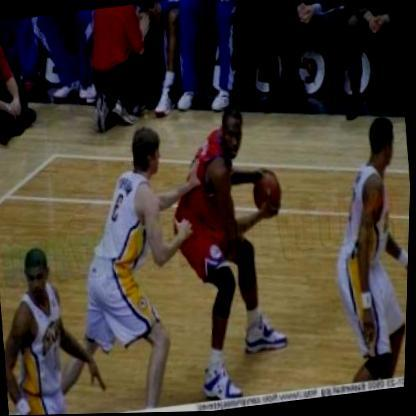basketball: (252, 164, 285, 219)
